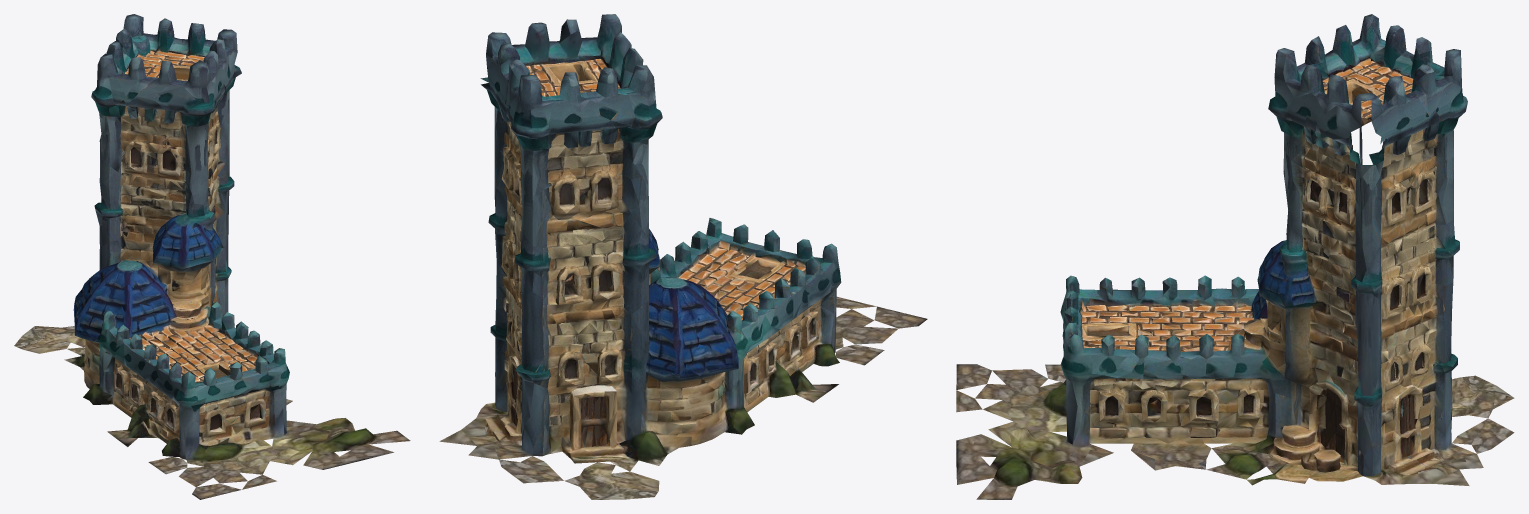
The model's file is torre.glb.
The picture shows the model from 3 angles, left to right: view 1: azimuth 30°, elevation 25°; view 2: azimuth 150°, elevation 25°; view 3: azimuth 270°, elevation 25°; orthographic projection. The views are drawn at different scales.
Size of the model in its own units: 1.15 by 1.56 by 2.
Materials: 1 (1 with a texture image).
